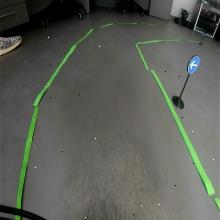left: (187, 56, 199, 73)
